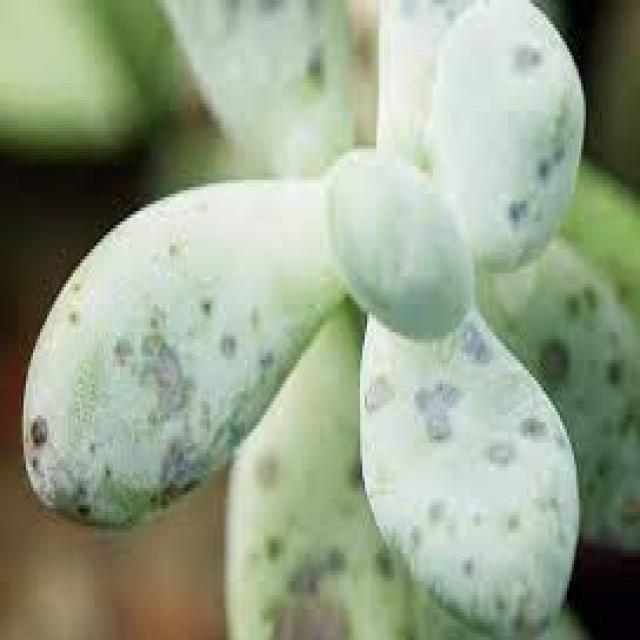-: (540, 337, 570, 380), (29, 412, 49, 455)
